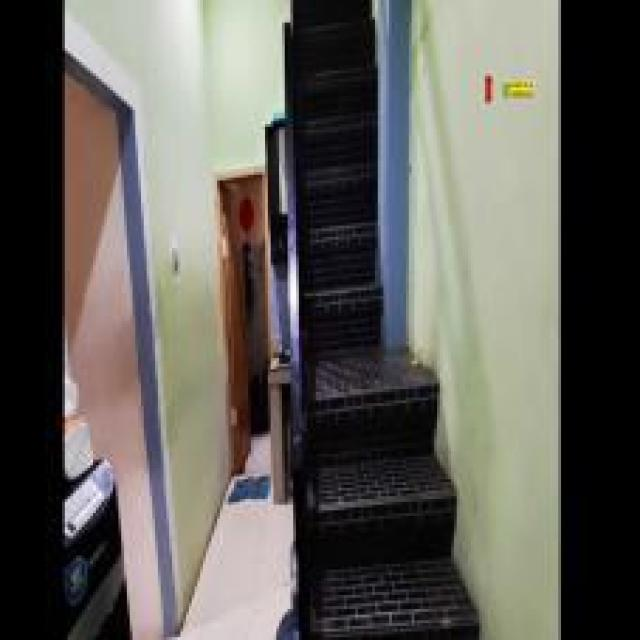upstair: (317, 371, 477, 639)
